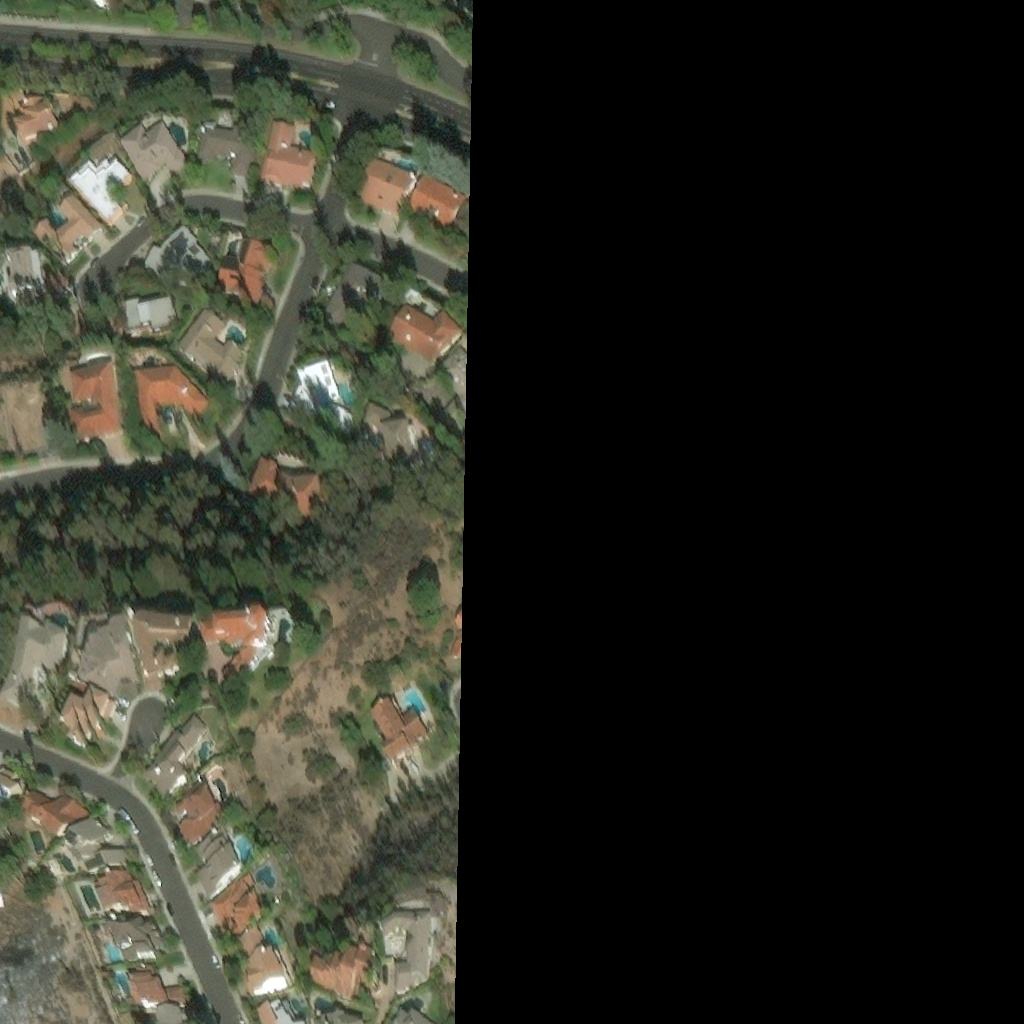0 no-damage: (0, 609, 69, 707), (135, 709, 209, 786), (181, 318, 248, 397), (202, 615, 274, 688), (137, 375, 214, 443), (288, 371, 358, 444), (31, 190, 101, 259), (141, 227, 214, 292), (388, 311, 465, 372), (249, 465, 338, 517), (217, 231, 274, 312), (66, 617, 135, 683), (379, 912, 433, 989), (72, 373, 127, 448), (368, 700, 431, 765), (196, 110, 257, 177), (66, 155, 130, 217), (118, 121, 187, 178), (261, 121, 318, 190), (59, 805, 121, 866), (361, 413, 425, 471), (12, 780, 84, 831), (358, 157, 416, 220), (408, 175, 467, 236), (189, 820, 240, 885), (54, 672, 111, 730), (304, 939, 371, 988), (170, 775, 222, 838), (126, 956, 187, 1008), (205, 869, 261, 925), (129, 615, 194, 663), (103, 907, 160, 956), (91, 861, 148, 909), (0, 248, 44, 308), (11, 92, 58, 141), (247, 983, 298, 1023), (127, 304, 180, 341), (307, 990, 361, 1023), (238, 940, 281, 980), (378, 1001, 434, 1023), (233, 919, 262, 949), (154, 999, 187, 1023), (0, 756, 18, 792), (95, 0, 112, 3)
